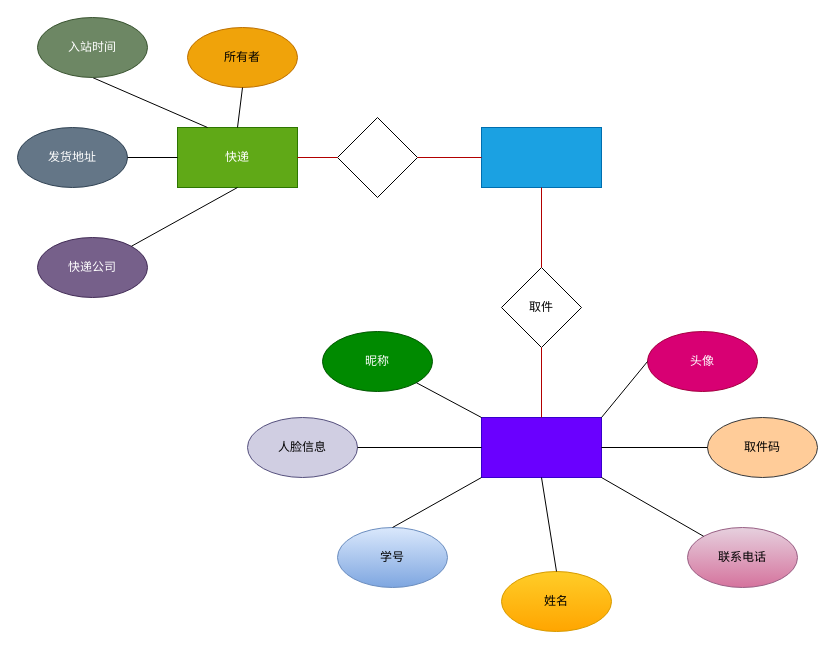
This 835x649 diagram has some shape labels left out. Each missing label, with the centre of its shape:
"快递入站" goes at (x=377, y=157).
"快递驿站" goes at (x=541, y=157).
"用户" goes at (x=541, y=447).
